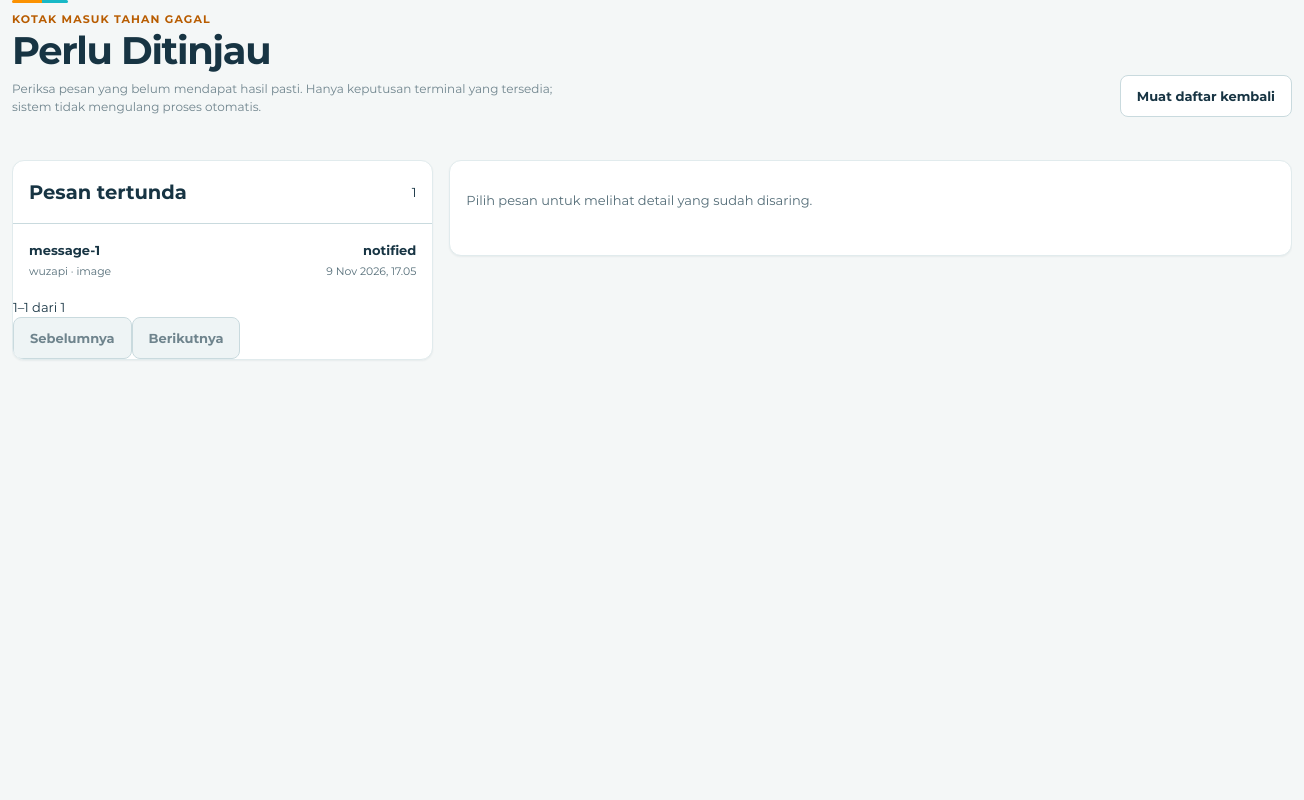
Scenario: Perlu Ditinjau workspace › shows a plain-language list and safe text detail without rendering raw HTML
Expected: the heading "Perlu Ditinjau" is shown, x1=12 y1=27 x2=270 y2=74
Expected: the text "message-1" is shown, x1=29 y1=240 x2=111 y2=260
Click the button with aria-label "Tinjau message-1".
click(65, 250)  # box x1=13 y1=224 x2=432 y2=297
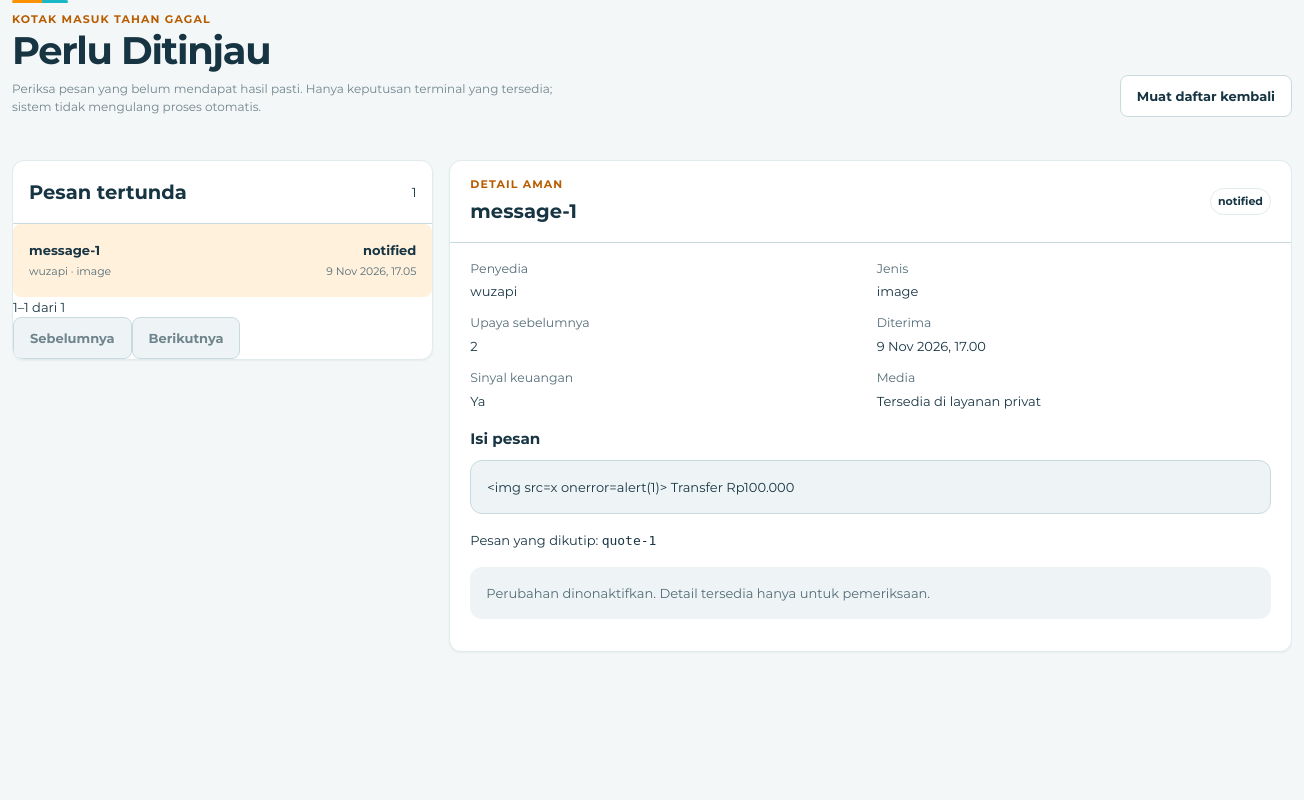
Expected: the text "<img src=x onerror=alert(1)> Transfer Rp100.000" is shown, x1=470 y1=460 x2=1271 y2=514
Expected: the text "Perubahan dinonaktifkan" is shown, x1=486 y1=585 x2=930 y2=601
